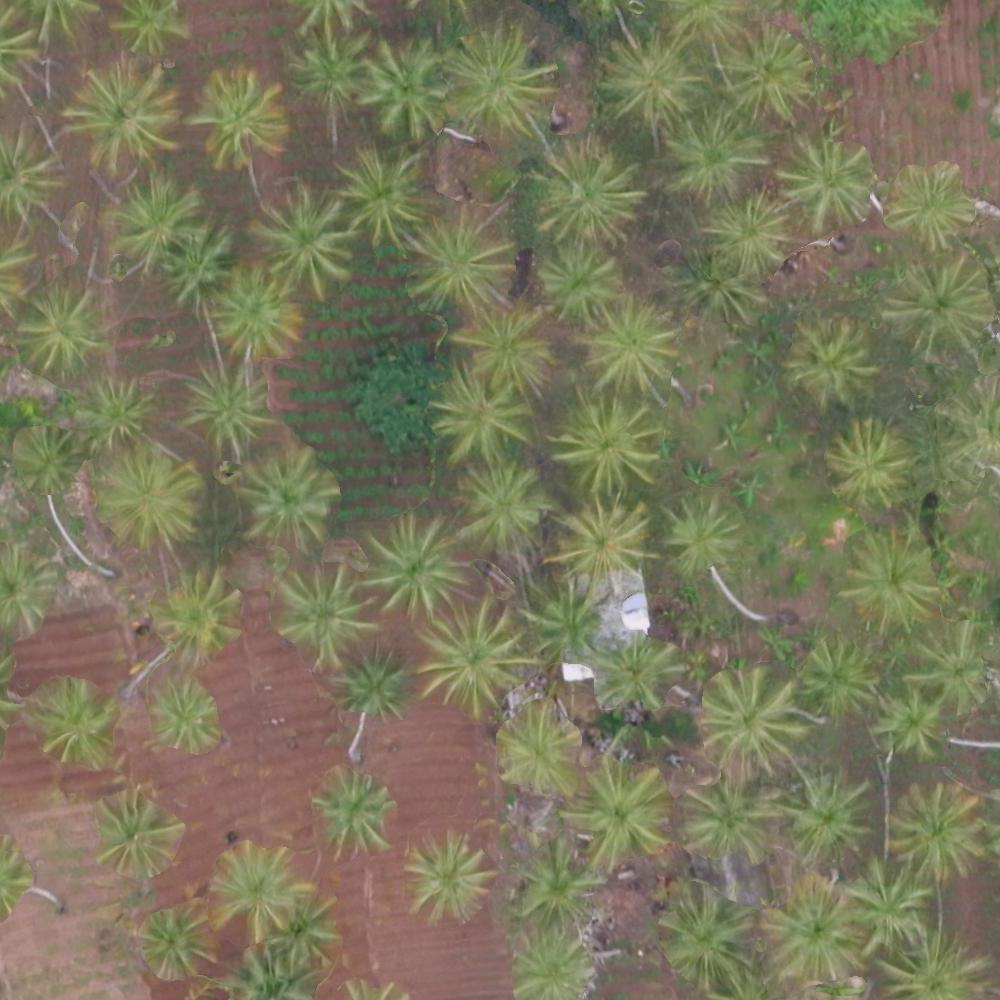Palm: (414, 604, 533, 713), (67, 60, 178, 172), (402, 209, 517, 314), (445, 27, 554, 136), (551, 386, 658, 496), (249, 188, 353, 296), (353, 32, 458, 133), (886, 259, 995, 355), (713, 26, 818, 125), (764, 882, 864, 985), (534, 140, 636, 240), (272, 562, 375, 659), (659, 101, 761, 198), (428, 367, 532, 462), (604, 30, 704, 127), (337, 145, 430, 248), (207, 264, 301, 365), (364, 516, 462, 612), (775, 767, 871, 865), (177, 362, 276, 457), (575, 764, 670, 863), (191, 69, 287, 166), (705, 673, 811, 760), (885, 783, 981, 879), (776, 133, 874, 227), (846, 529, 942, 623), (551, 494, 650, 585), (212, 841, 305, 936), (97, 454, 196, 543), (583, 298, 678, 390), (666, 249, 767, 335), (100, 177, 198, 265), (245, 447, 335, 542), (280, 29, 380, 113), (458, 305, 553, 393), (903, 622, 993, 712), (842, 855, 930, 947), (828, 413, 913, 508), (880, 931, 996, 1000), (454, 459, 544, 547), (681, 777, 775, 861), (665, 890, 751, 981), (19, 285, 107, 372), (492, 701, 578, 789), (1, 126, 78, 222), (33, 677, 114, 766), (788, 319, 877, 400), (96, 795, 180, 880), (512, 841, 596, 926), (405, 832, 484, 922), (317, 769, 396, 857), (533, 243, 621, 322), (154, 574, 240, 654), (704, 199, 790, 279), (161, 218, 238, 302), (599, 631, 677, 712), (658, 496, 738, 574), (892, 164, 972, 241), (260, 895, 340, 969), (807, 638, 881, 718), (525, 585, 604, 657), (145, 675, 219, 750), (868, 690, 947, 760), (72, 378, 149, 449), (135, 910, 216, 975), (512, 933, 590, 1000), (341, 647, 410, 718), (1, 551, 58, 636), (114, 1, 193, 62), (16, 425, 81, 493)
